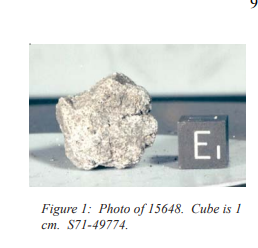Basalt: (61, 76, 152, 174)
